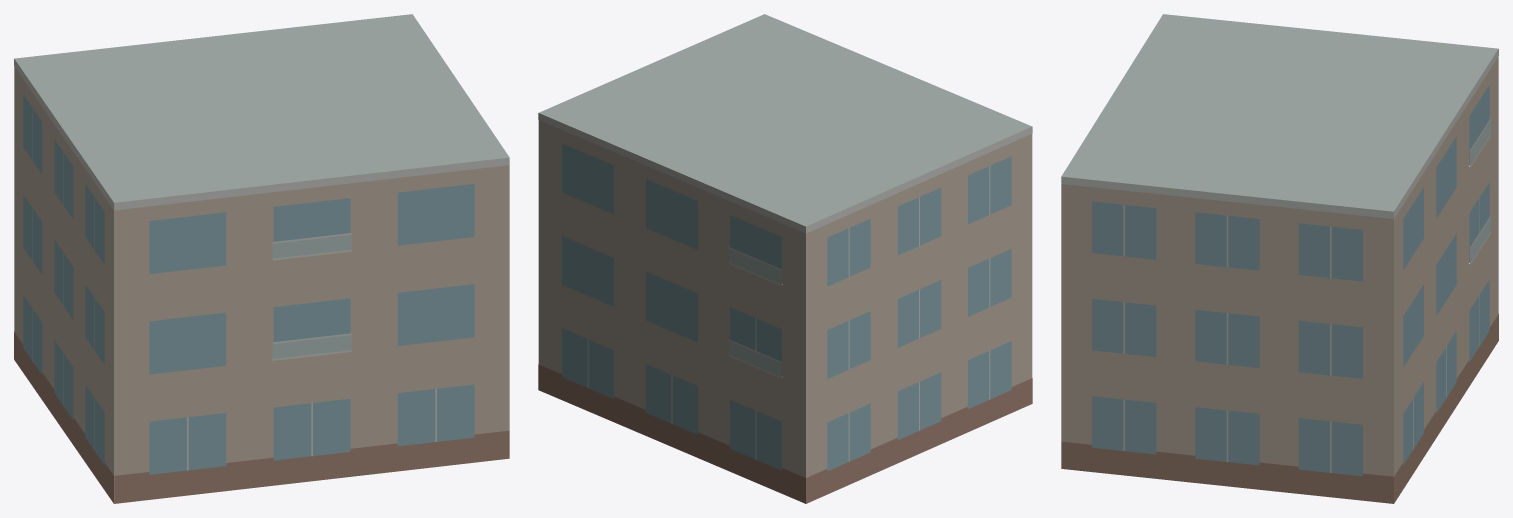
File: survey-upis-32593475.glb
3 renders of one model, left to right at view 1: azimuth 30°, elevation 25°; view 2: azimuth 150°, elevation 25°; view 3: azimuth 270°, elevation 25°, orthographic. The views are drawn at different scales.
Visible parts, largest first — view 1: survey-upis-32593475.tmp; view 2: survey-upis-32593475.tmp; view 3: survey-upis-32593475.tmp.
Part boxes in pixels (left/top/right/bottom): survey-upis-32593475.tmp: left=14, top=14, right=509, bottom=503; survey-upis-32593475.tmp: left=538, top=14, right=1032, bottom=503; survey-upis-32593475.tmp: left=1061, top=14, right=1498, bottom=503.
Bounding box in the file's own units: 14.09 × 9.7 × 13.17.
